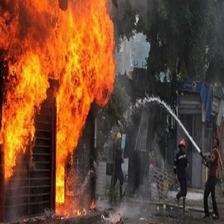fire: (51, 1, 116, 200), (1, 1, 50, 180)
